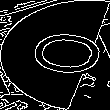O_E: (8, 28, 102, 82)
